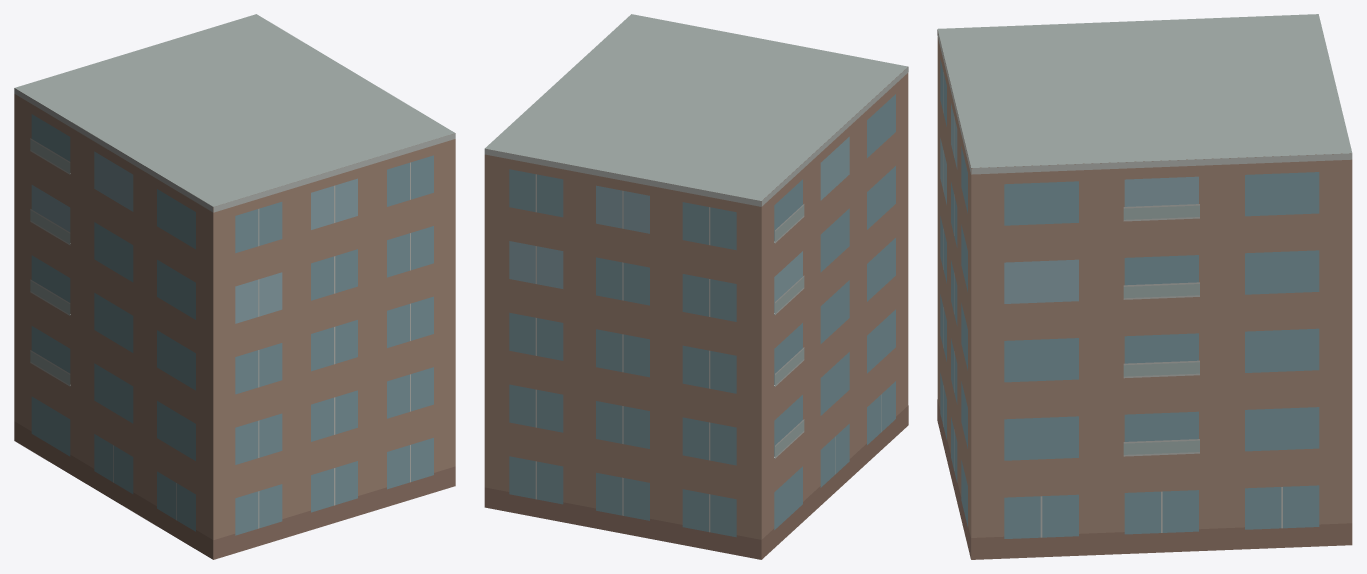
Rendered from survey-upis-32707932.glb.
3 views of the same model, side by side, from view 1: azimuth 30°, elevation 25°; view 2: azimuth 150°, elevation 25°; view 3: azimuth 270°, elevation 25° (orthographic). The views are drawn at different scales.
Visible parts, largest first — view 1: survey-upis-32707932.tmp; view 2: survey-upis-32707932.tmp; view 3: survey-upis-32707932.tmp.
Part boxes in pixels (x1,y1,x2,y2): survey-upis-32707932.tmp: (14,14,455,559); survey-upis-32707932.tmp: (484,14,908,559); survey-upis-32707932.tmp: (937,14,1352,559).
Bounding box in the file's own units: 12.58 × 14.9 × 14.31.
